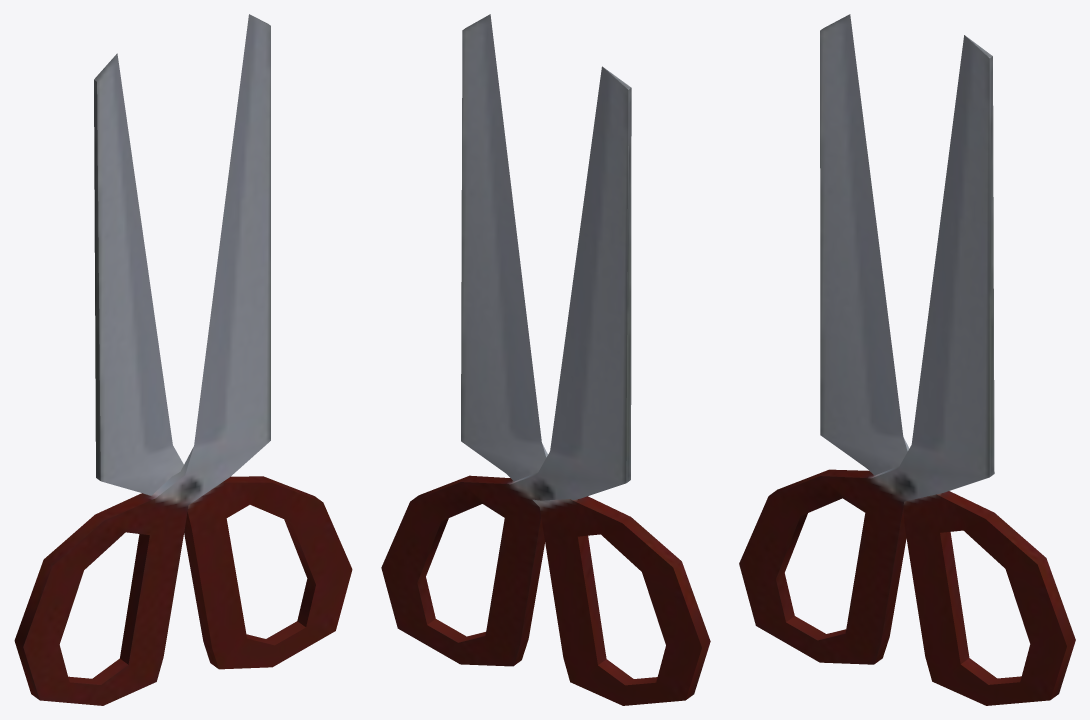
File: sniksnak_04.obj
3 views of the same model, side by side, from view 1: azimuth 30°, elevation 25°; view 2: azimuth 150°, elevation 25°; view 3: azimuth 330°, elevation 25° (orthographic). The views are drawn at different scales.
Visible parts, largest first — view 1: Object06, Object05; view 2: Object06, Object05; view 3: Object06, Object05.
Boxes of the visible parts, x1,y1,x2,y2 form: Object06: (14, 14, 270, 705); Object05: (94, 53, 352, 669); Object06: (461, 14, 710, 705); Object05: (381, 66, 631, 666); Object06: (739, 35, 994, 664); Object05: (820, 14, 1075, 705).
Bounding box in the file's own units: 9.85 × 18.94 × 0.5758.
Materials: 1 (1 with a texture image).
